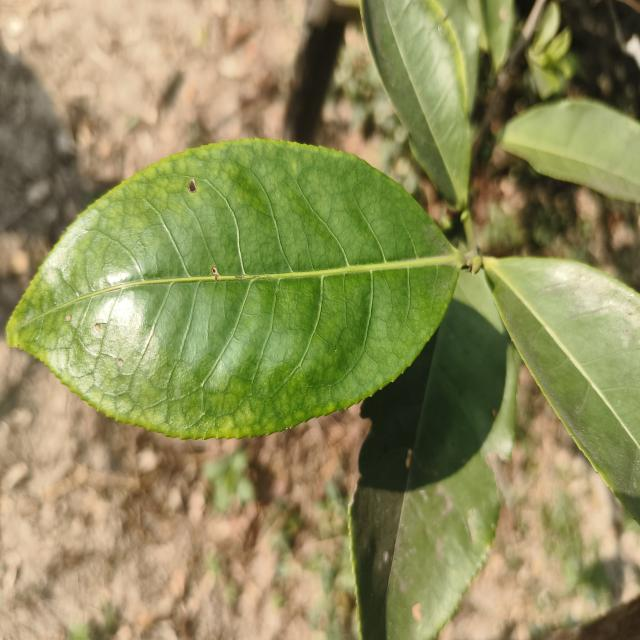Leaf: (7, 140, 461, 438), (349, 272, 519, 640), (484, 258, 640, 522), (362, 0, 470, 206), (498, 99, 640, 202)
